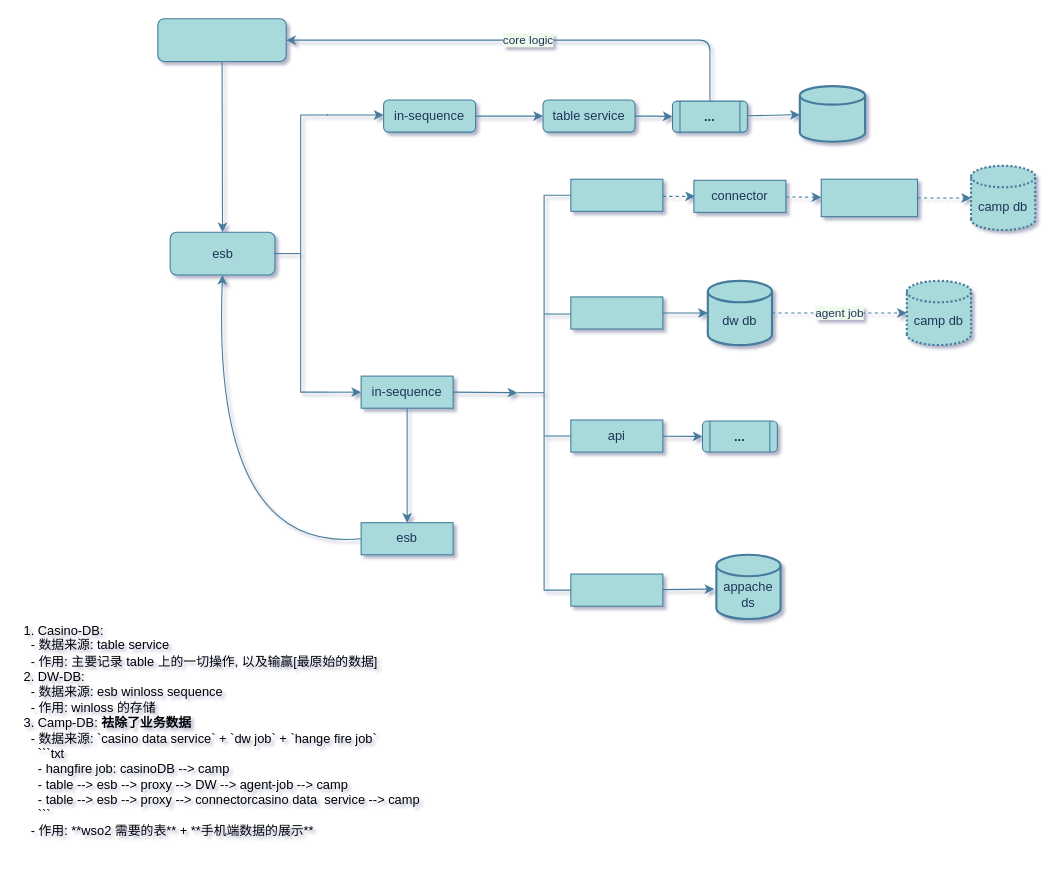
Image size: 1060x878. Some labels were removed from this diagram. Here are the shapes that lost their labels. From the top down, the centre of each, then its label:
At point (221, 40): "table client".
At point (832, 113): "casino db".
At point (616, 194): "rabbit mq".
At point (869, 197): "casino data service".
At point (616, 312): "dss".
At point (616, 589): "is".
